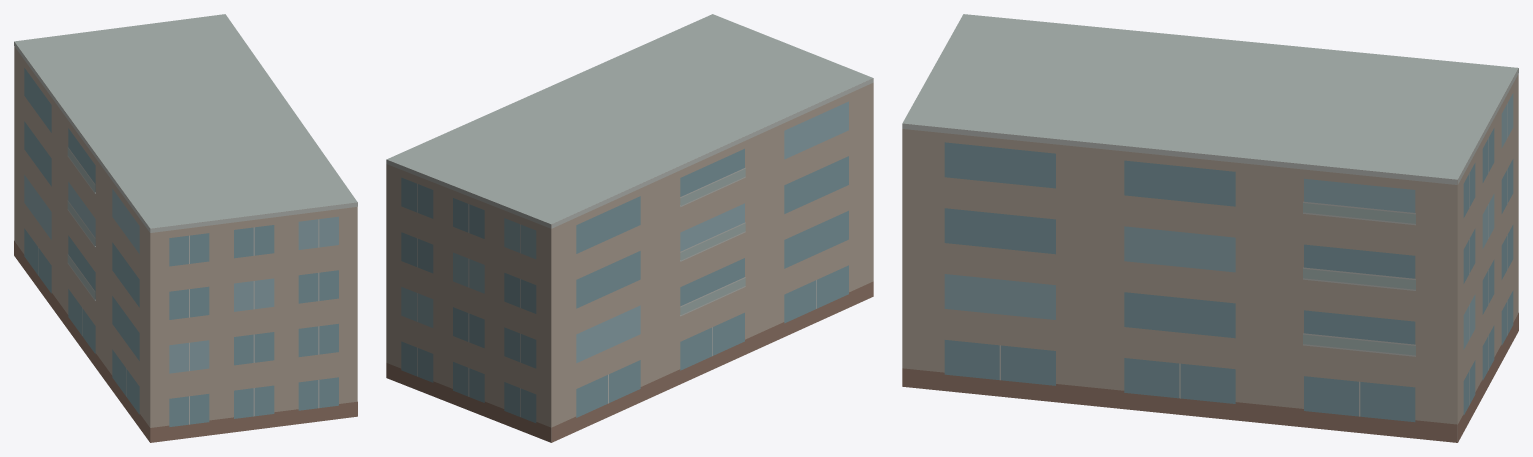
Rendered from survey-upis-32536263.glb.
The picture shows the model from 3 angles, left to right: view 1: azimuth 30°, elevation 25°; view 2: azimuth 150°, elevation 25°; view 3: azimuth 270°, elevation 25°; orthographic projection. The views are drawn at different scales.
Parts seen in each view (by area): view 1: survey-upis-32536263.tmp; view 2: survey-upis-32536263.tmp; view 3: survey-upis-32536263.tmp.
Boxes of the visible parts, x1=… form: survey-upis-32536263.tmp: x1=14, y1=14, x2=357, y2=442; survey-upis-32536263.tmp: x1=386, y1=14, x2=873, y2=442; survey-upis-32536263.tmp: x1=902, y1=14, x2=1518, y2=442.
Bounding box in the file's own units: 16.08 × 11.9 × 25.27.
